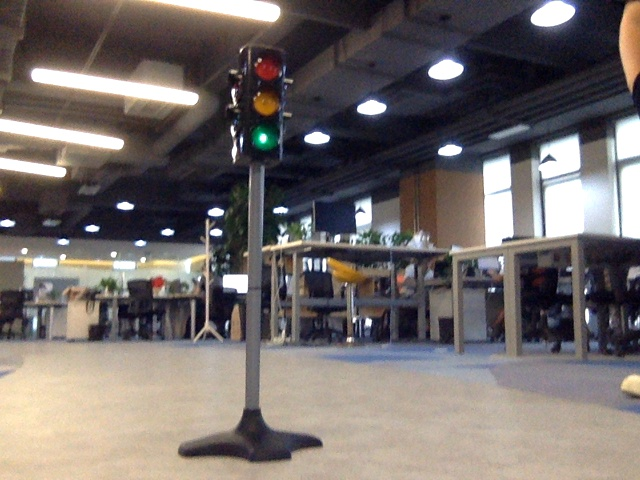green: (244, 49, 281, 157)
